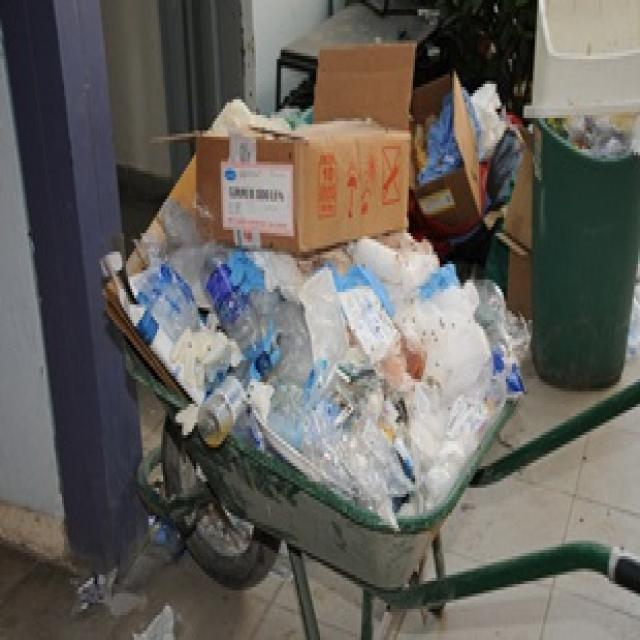garbage: (108, 73, 517, 537), (518, 0, 639, 408)
